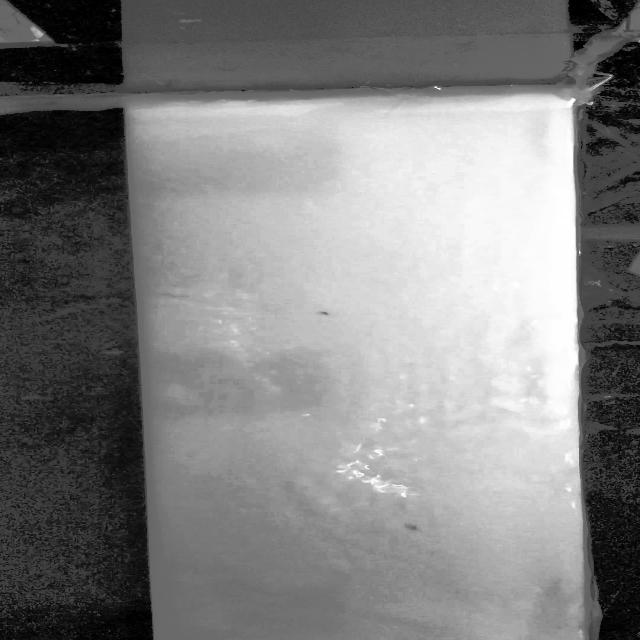shrimp: (401, 521, 426, 536), (315, 309, 339, 318)
